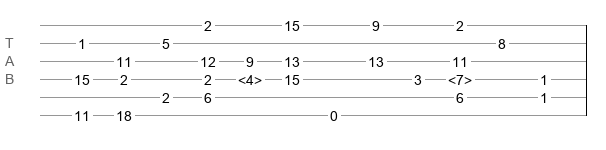0: (330, 108, 338, 118)
1: (78, 36, 86, 46), (540, 90, 548, 100), (540, 72, 548, 82)
11: (74, 108, 90, 118), (116, 54, 132, 64), (452, 54, 468, 64)
12: (200, 54, 216, 64)
13: (284, 54, 300, 64), (368, 54, 384, 64)
15: (74, 72, 90, 82), (284, 18, 300, 28), (284, 72, 300, 82)
18: (116, 108, 132, 118)
2: (120, 72, 128, 82), (162, 90, 170, 100), (204, 72, 212, 82), (204, 18, 212, 28), (456, 18, 464, 28)
3: (414, 72, 422, 82)
5: (162, 36, 170, 46)
6: (204, 90, 212, 100), (456, 90, 464, 100)
8: (498, 36, 506, 46)
9: (246, 54, 254, 64), (372, 18, 380, 28)
harmonic: (238, 72, 262, 82), (448, 72, 472, 82)
